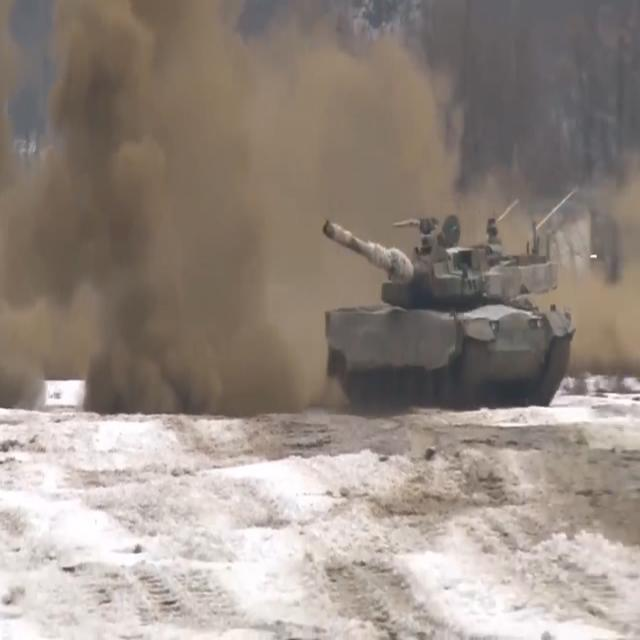korea tank: (321, 212, 577, 412)
